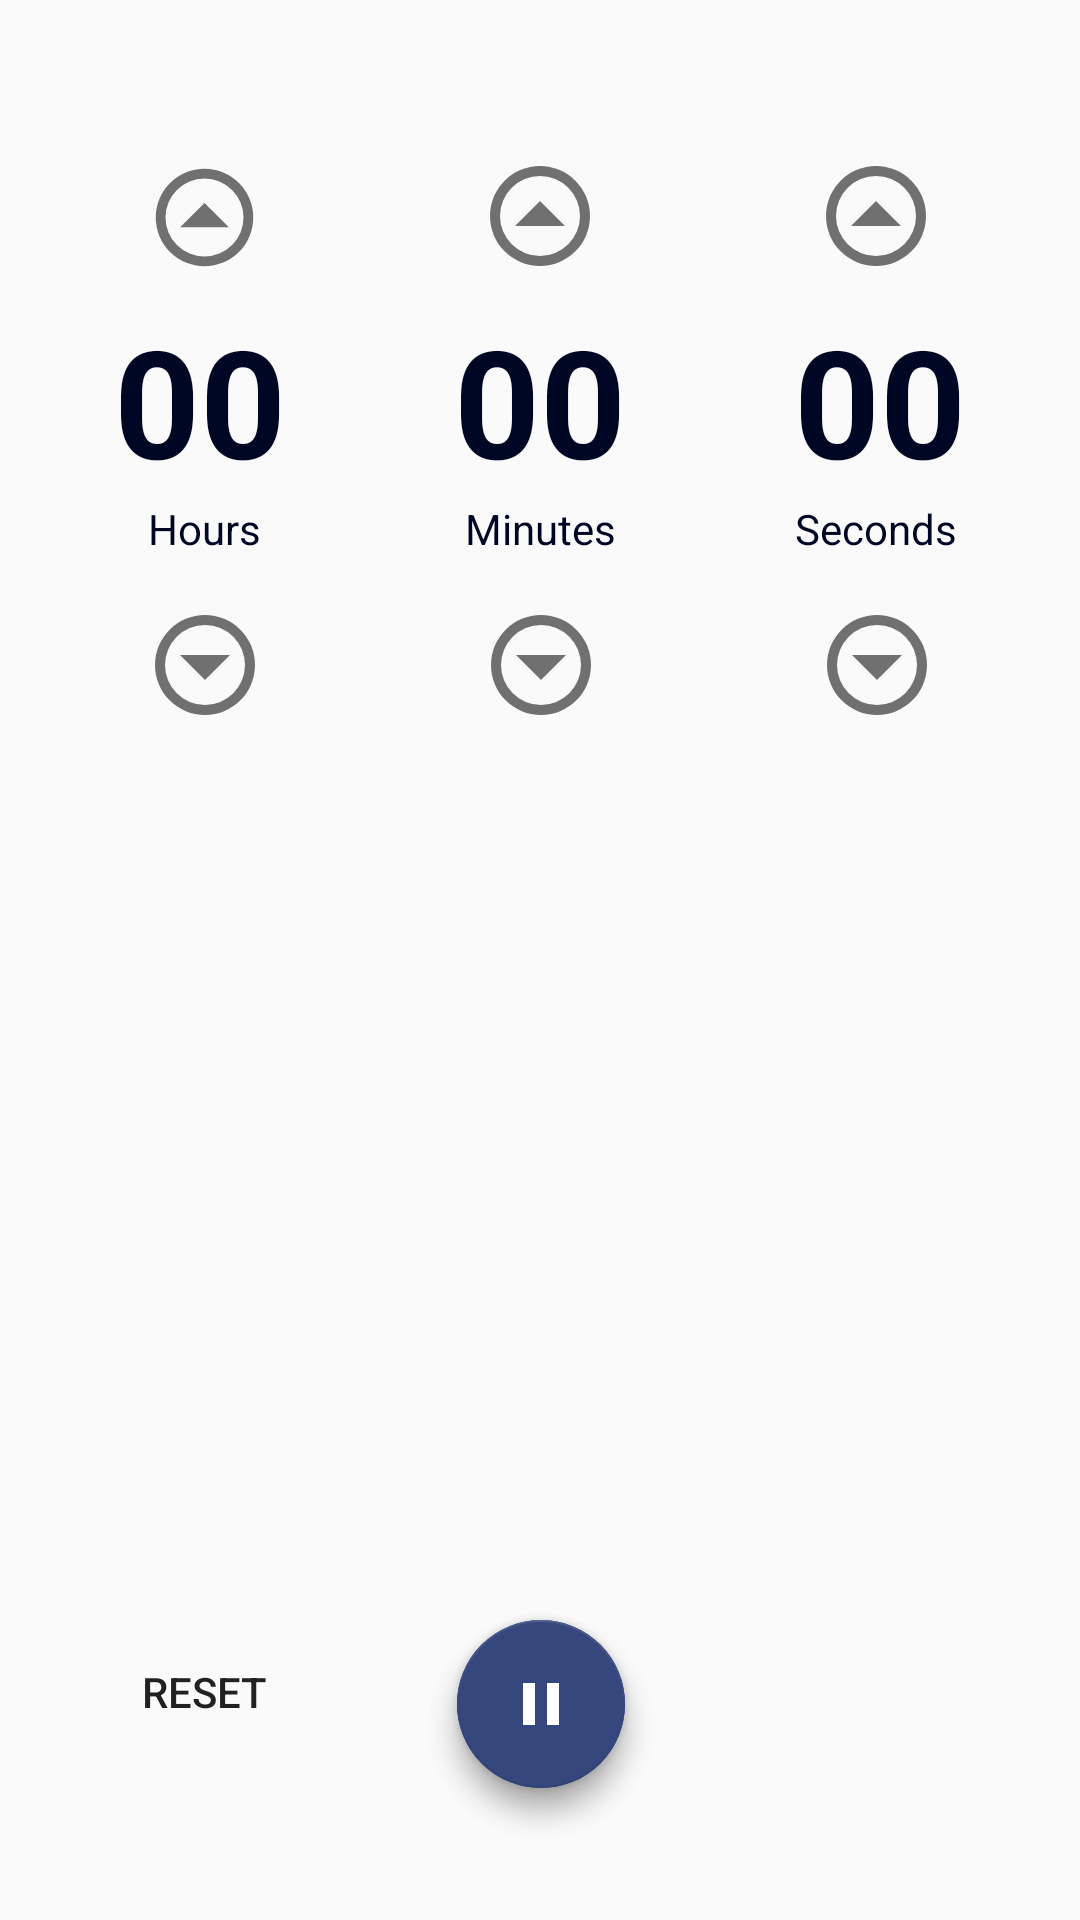

Icon bounding boxes for this 1080 × 1920 phone screenshot, format (x1, y1, x2, y2):
arroww: (490, 166, 590, 266), (826, 166, 926, 266), (155, 168, 254, 267)
down arrow: (155, 615, 255, 715), (491, 615, 591, 715), (827, 615, 927, 715)
